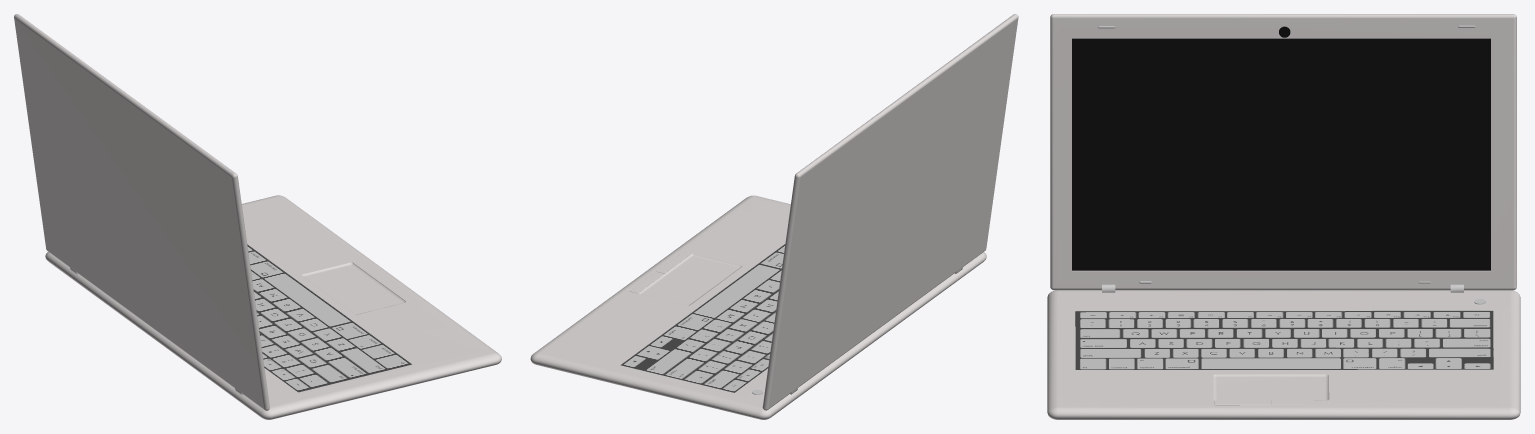
Rendered from WhiteLaptop.gltf.
3 views of the same model, side by side, from view 1: azimuth 30°, elevation 25°; view 2: azimuth 150°, elevation 25°; view 3: azimuth 270°, elevation 25° (orthographic). The views are drawn at different scales.
Size of the model in its own units: 46.68 by 42.07 by 66.77.
4 materials, 1 textured.
